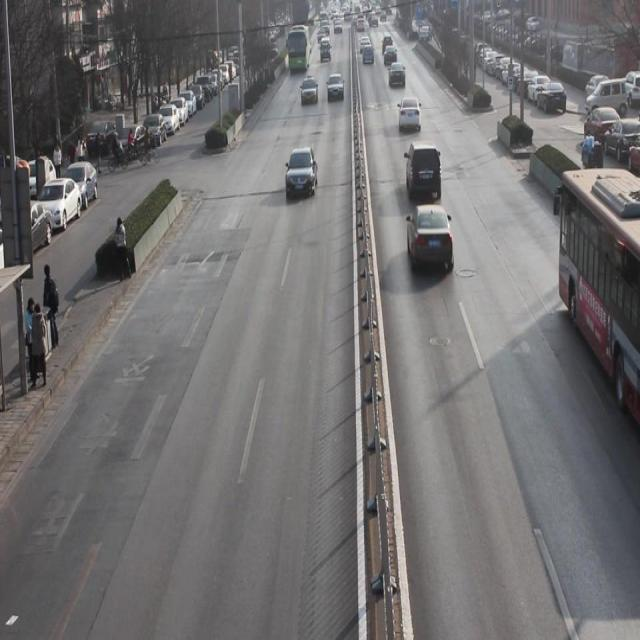car: (406, 203, 454, 275), (404, 141, 443, 199), (285, 145, 318, 196), (399, 97, 421, 133), (300, 74, 318, 105), (327, 73, 345, 104), (389, 59, 407, 86)
truck: (318, 38, 332, 64)
van: (559, 164, 640, 420)
